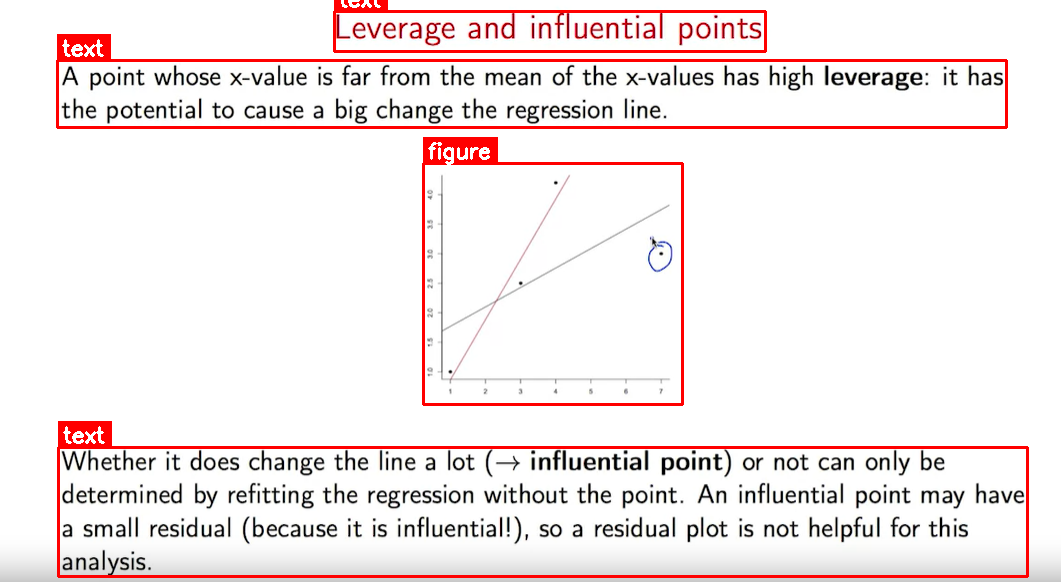figure: (423, 163, 682, 404)
text: (58, 447, 1027, 576), (57, 60, 1006, 127), (334, 11, 765, 51)
